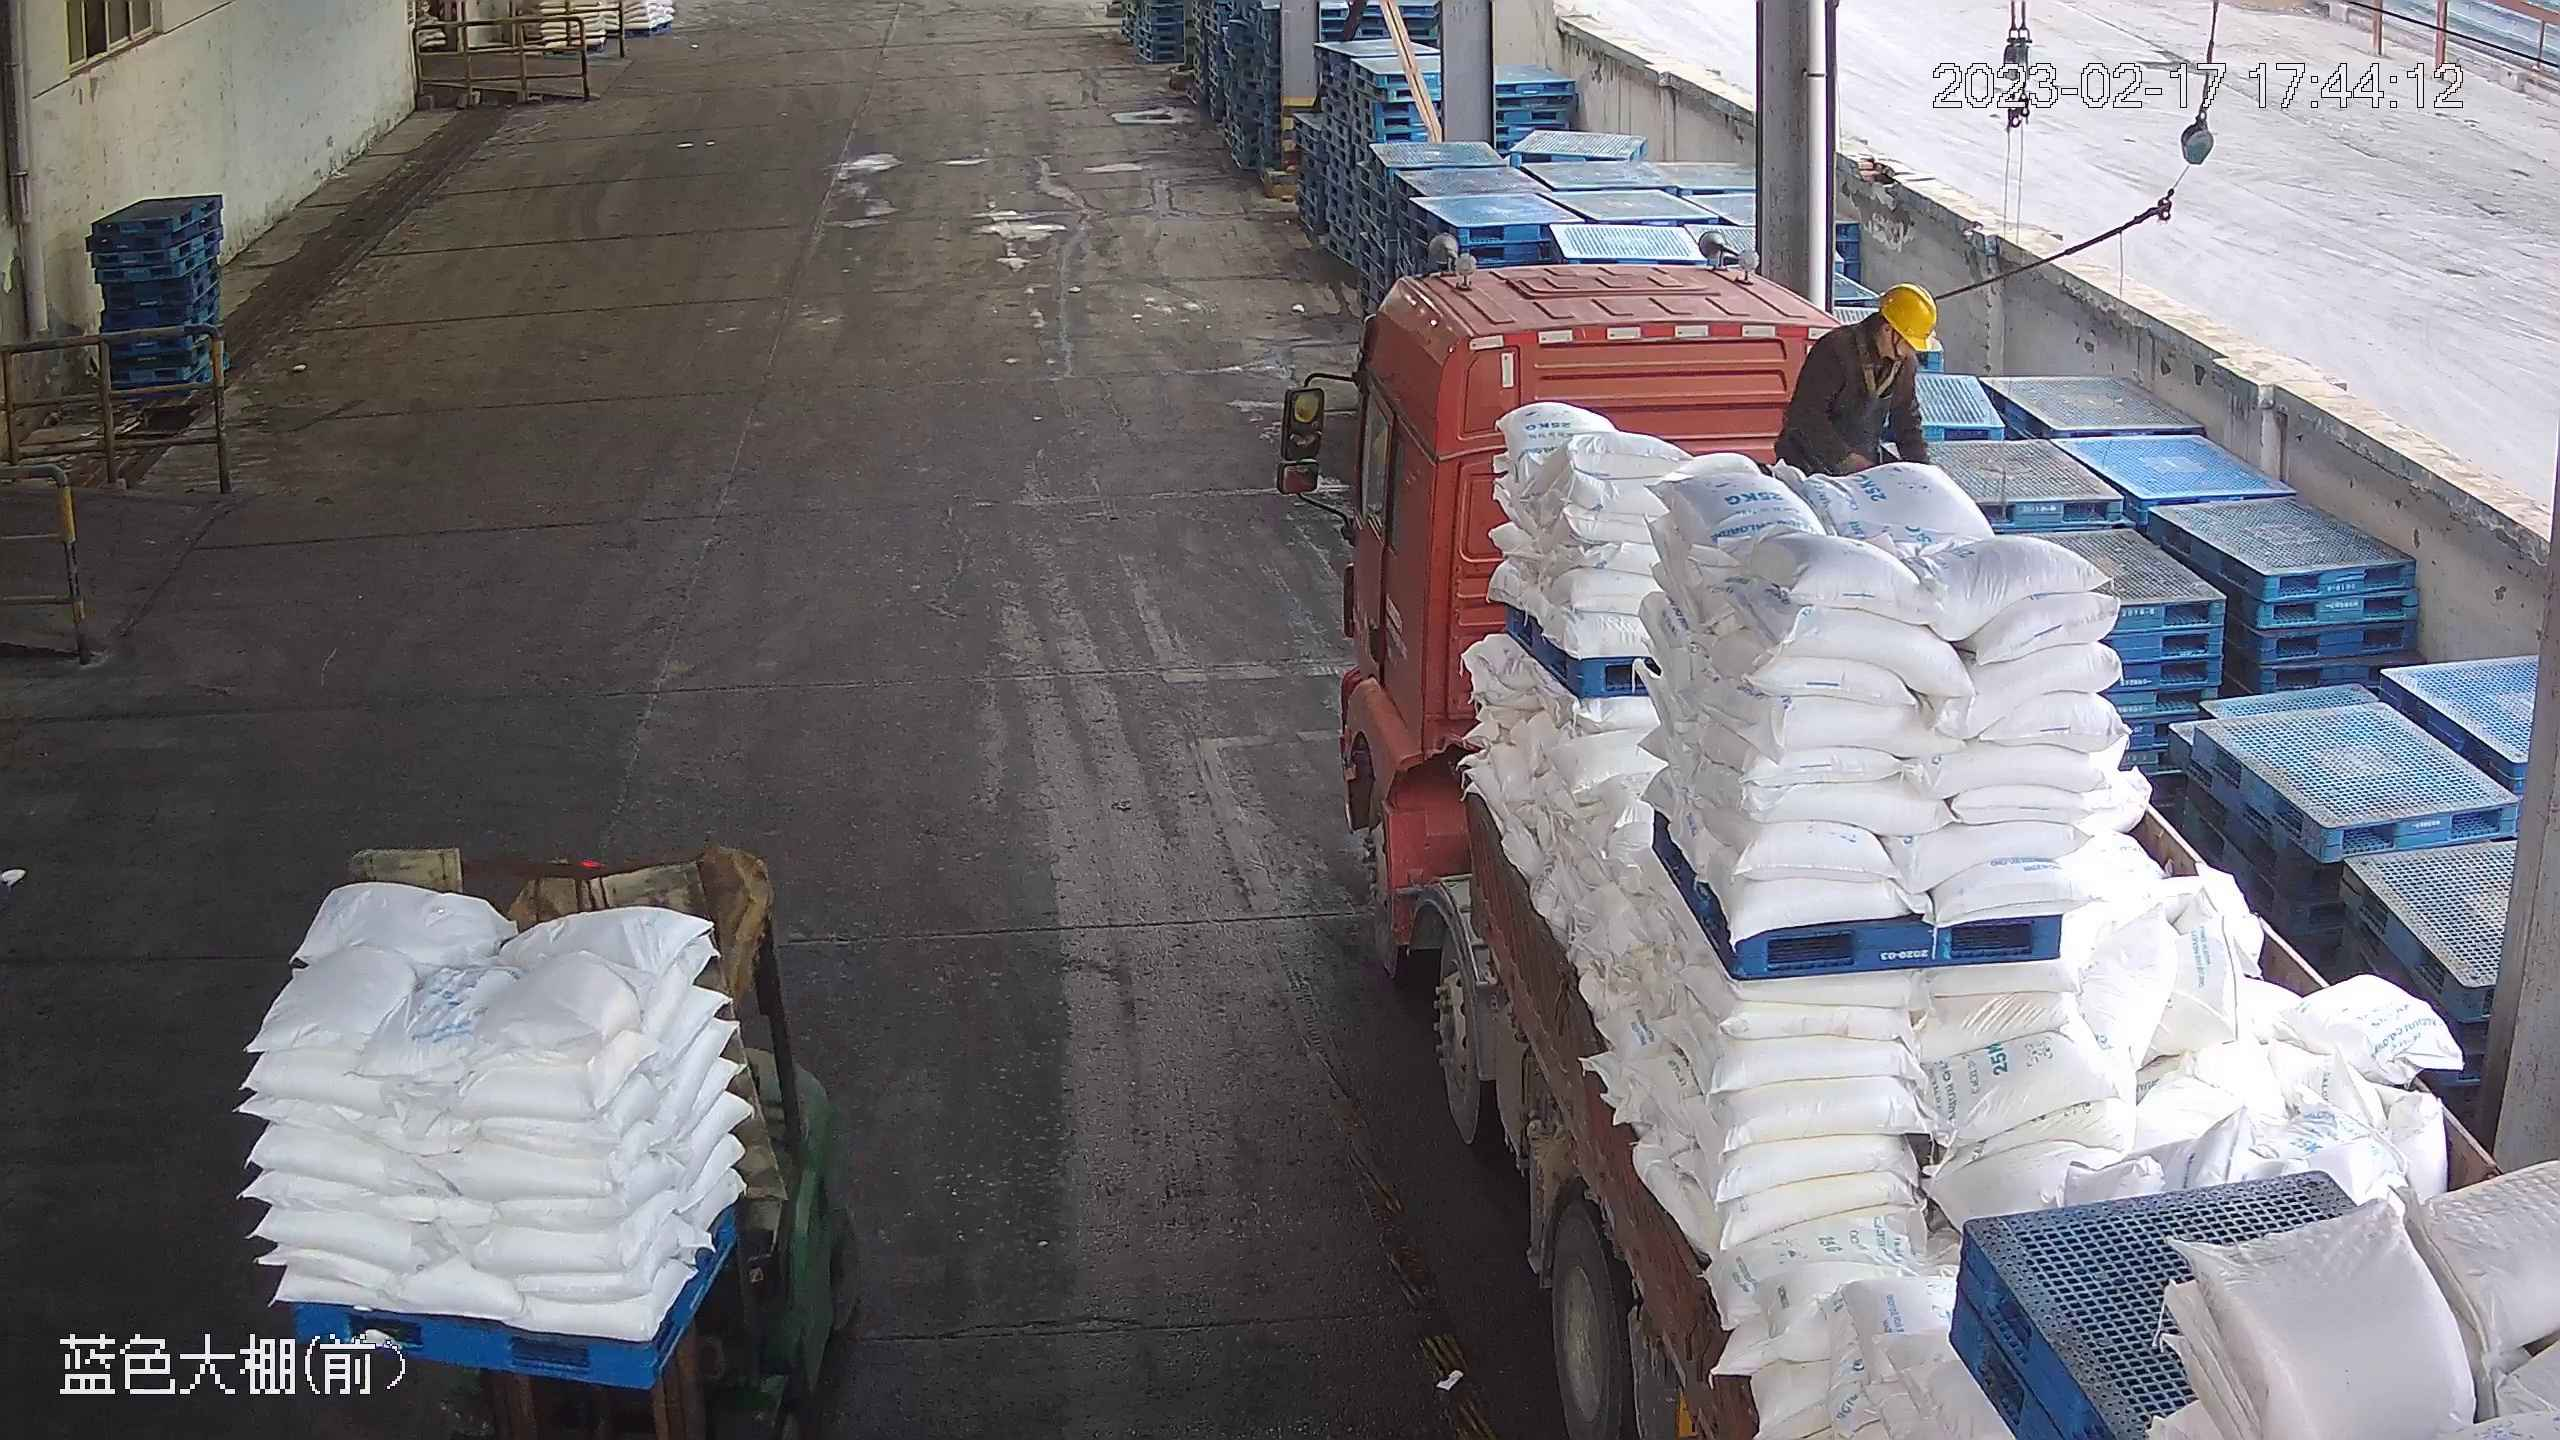belt: (1837, 327, 1930, 408)
head: (1783, 286, 1947, 449)
helmet: (1878, 286, 1940, 359)
truck: (1271, 244, 2560, 1440)
